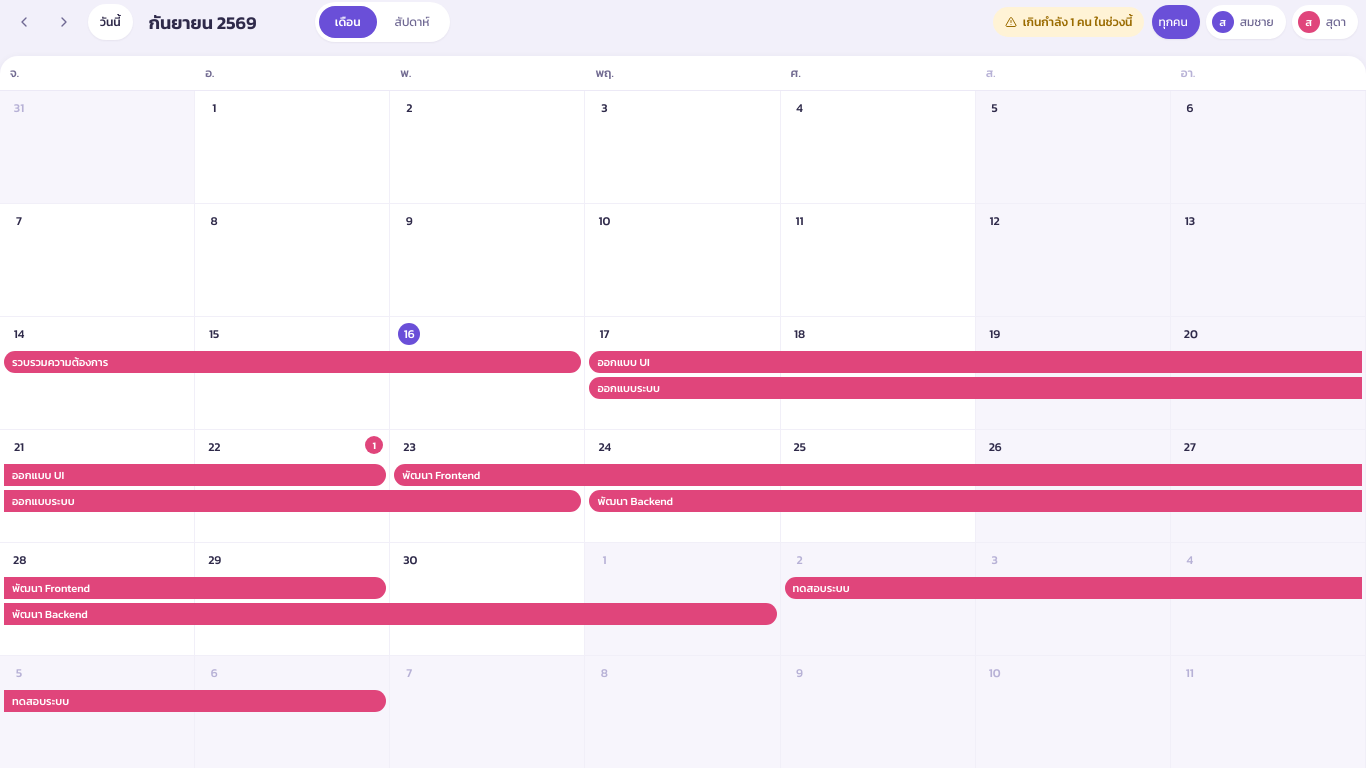
CalendarPage › renders the month with spanning chips, an overload badge and a resource filter
expect the heading with test id "calendar-title" reads "กันยายน 2569": met, box 149,8 -> 256,36
expect the number of buttons with test id "cal-chip-t2" is 2: met, box 589,377 -> 1362,399; 4,490 -> 581,512
Click the button "ส สุดา".
click(1325, 22)  # box 1292,5 -> 1358,39
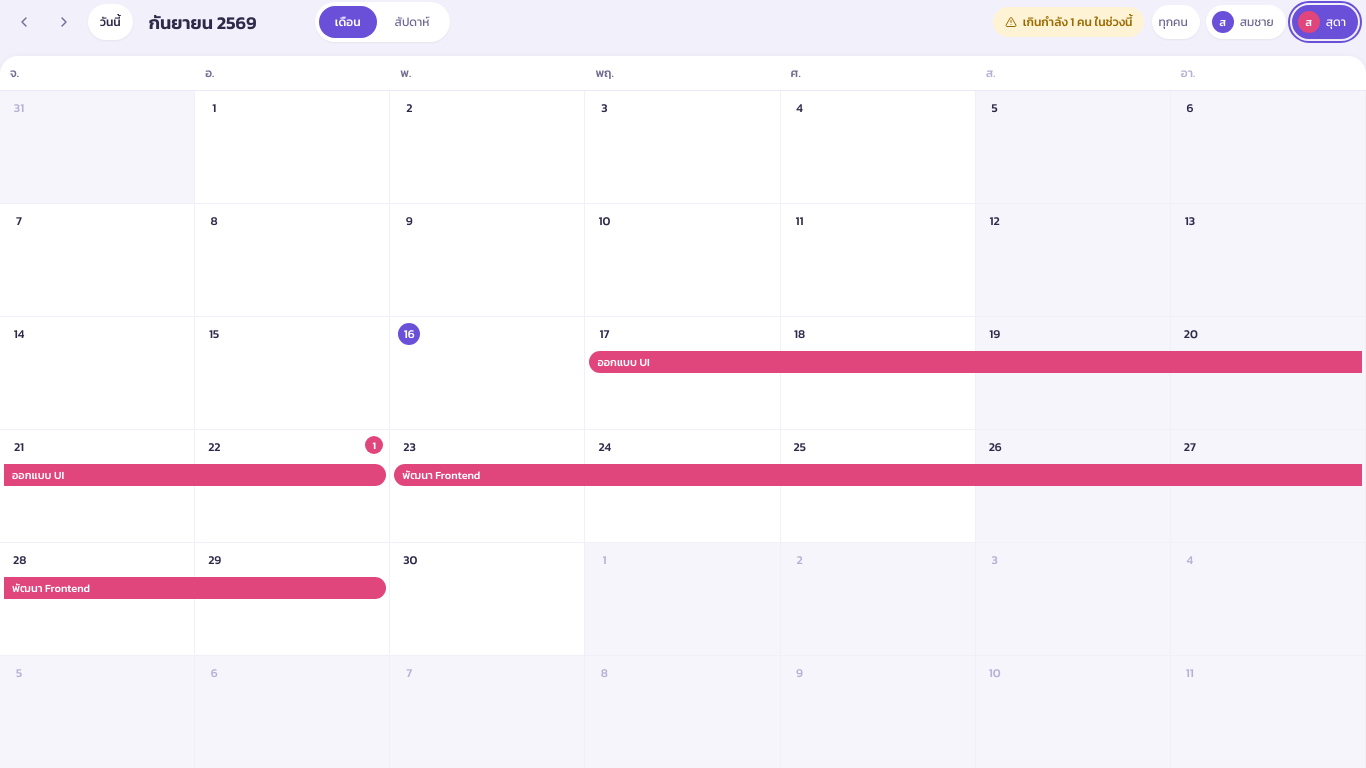
expect the button with test id "cal-chip-t3" below "16" is shown: met, box 589,351 -> 1362,373
expect the button with test id "cal-chip-t2" is gone: met
